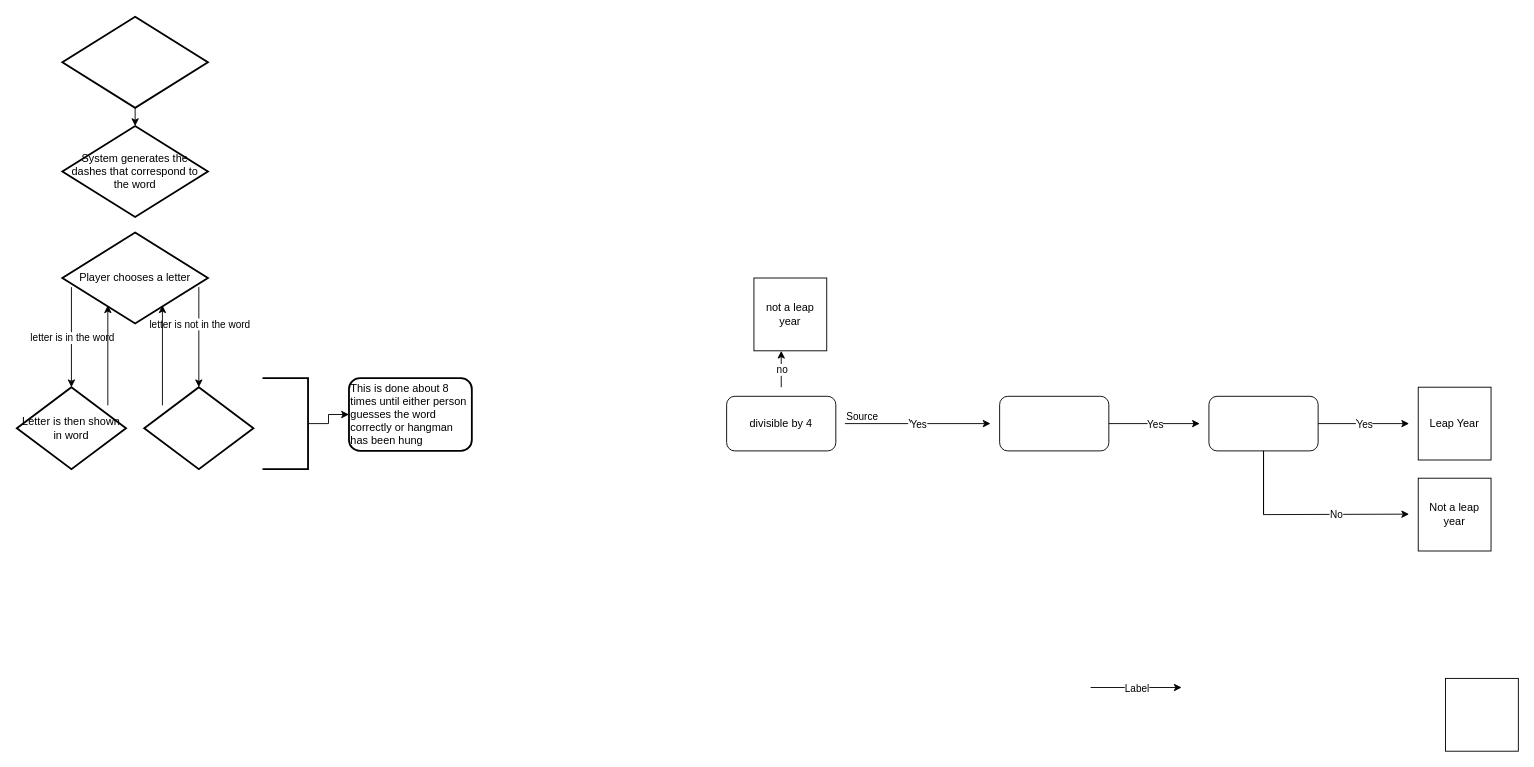
The diagram is 1534 pixels wide and 767 high, and some of its shapes have lost their labels. The shapes that lost their labels are listed below. From the top down, each one's centre as x and y in pixels, then its label:
At pixel 134 61: "System generates a word".
At pixel 198 428: "The next part of the hanging occurs".
At pixel 1054 423: "Divisible by 100".
At pixel 1263 423: "divisible by 400".
